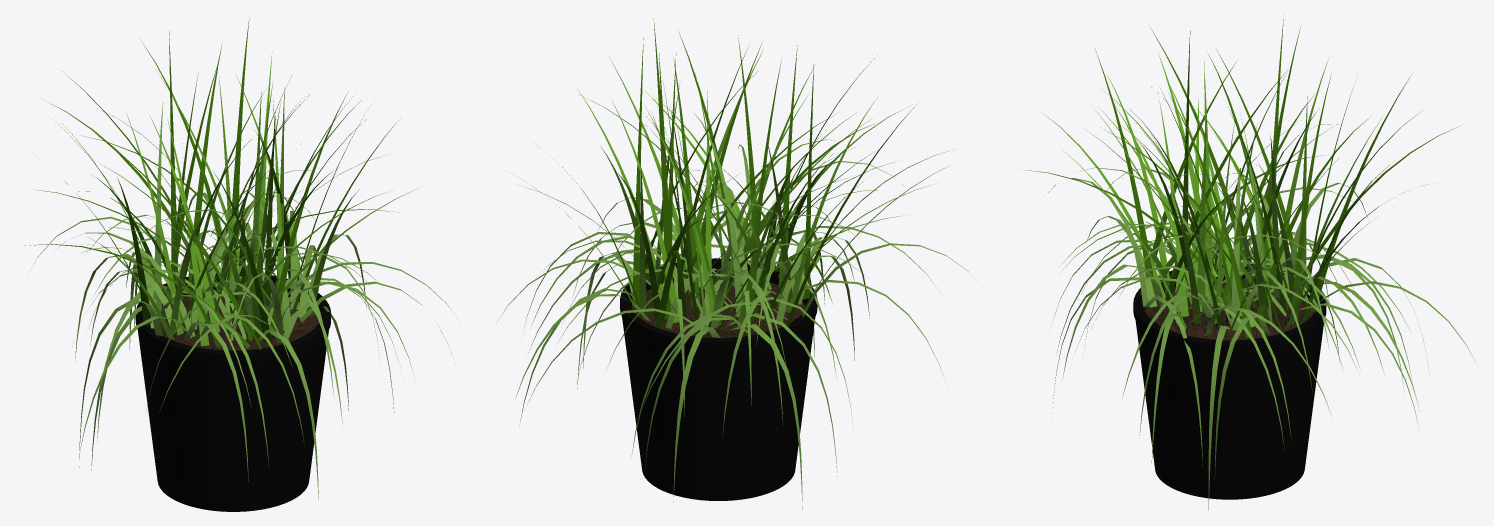
The model's file is pot_2gal.dae.
3 renders of one model, left to right at view 1: azimuth 30°, elevation 25°; view 2: azimuth 150°, elevation 25°; view 3: azimuth 270°, elevation 25°, orthographic. The views are drawn at different scales.
Parts seen in each view (by area): view 1: group_2, group_6 (×11), group_10 (×9), group_12 (×5), group_8 (×4), group_3; view 2: group_2, group_6 (×12), group_10 (×8), group_12 (×4), group_3, group_8 (×2); view 3: group_2, group_6 (×15), group_10 (×12), group_12 (×5), group_3, group_8 (×3).
Boxes of the visible parts, <box> form: group_2: <box>135,273,330,511</box>; group_6 (×11): <box>25,18,348,348</box>; group_10 (×9): <box>126,52,359,346</box>; group_12 (×5): <box>90,268,348,499</box>; group_8 (×4): <box>55,102,284,396</box>; group_3: <box>150,289,318,350</box>; group_2: <box>620,258,817,500</box>; group_6 (×12): <box>615,35,918,327</box>; group_10 (×8): <box>610,90,877,329</box>; group_12 (×4): <box>644,290,802,509</box>; group_3: <box>631,276,805,337</box>; group_8 (×2): <box>694,113,786,368</box>; group_2: <box>1133,264,1326,499</box>; group_6 (×15): <box>1095,26,1411,337</box>; group_10 (×12): <box>1043,58,1381,325</box>; group_12 (×5): <box>1062,264,1291,510</box>; group_3: <box>1144,279,1314,340</box>; group_8 (×3): <box>1044,168,1241,462</box>.
Bounding box in the file's own units: 19.36 × 20.43 × 19.68.
